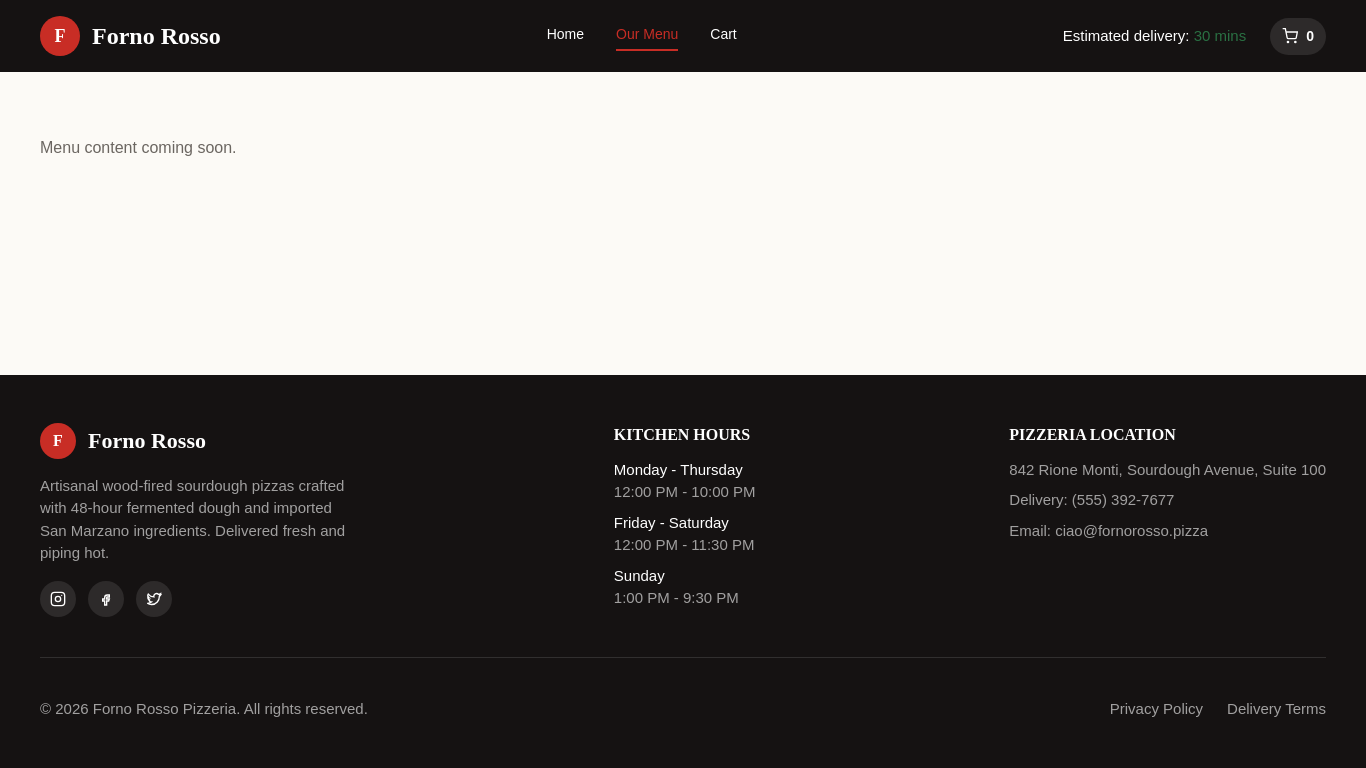
Scenario: App routing › reaches the cart page via the header's Cart nav link
Click the link "Cart".
click(724, 36)  # box [710, 24, 737, 48]
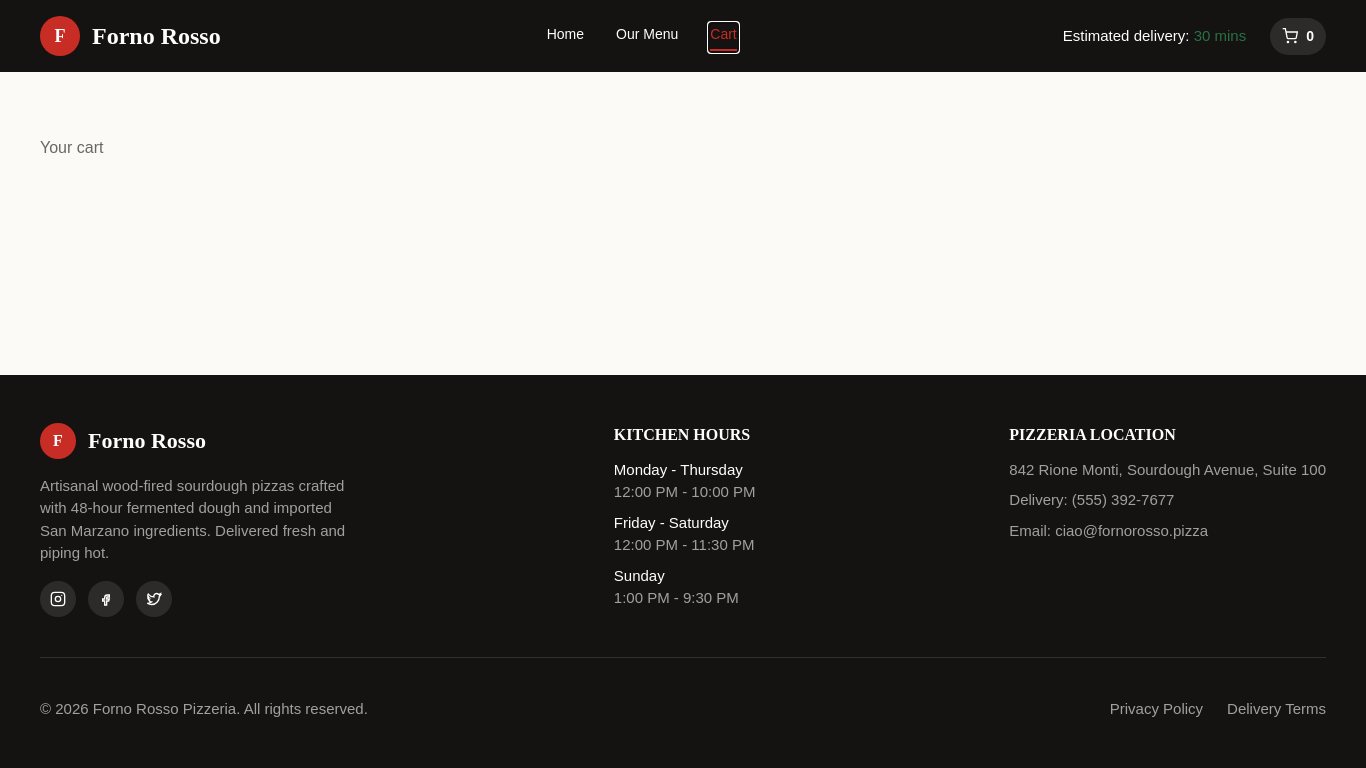
Check: the element with test id "cart-page" is shown, box [40, 139, 104, 156]
